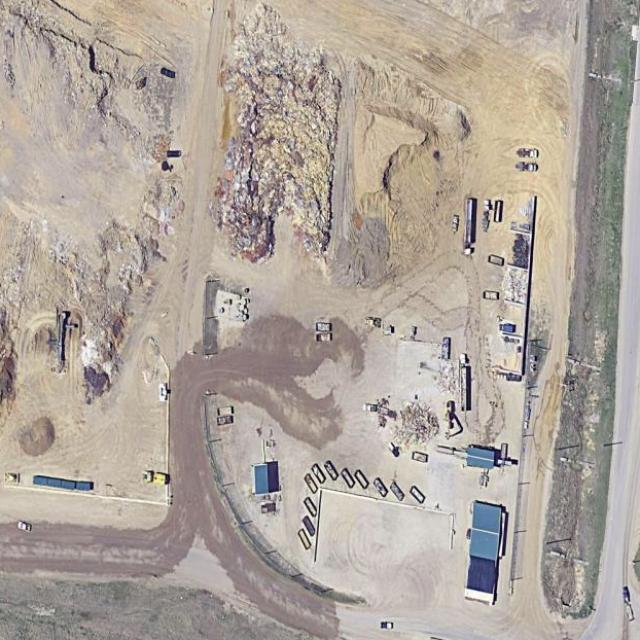dump_site: (209, 0, 349, 281), (0, 265, 24, 412), (392, 395, 440, 453)
